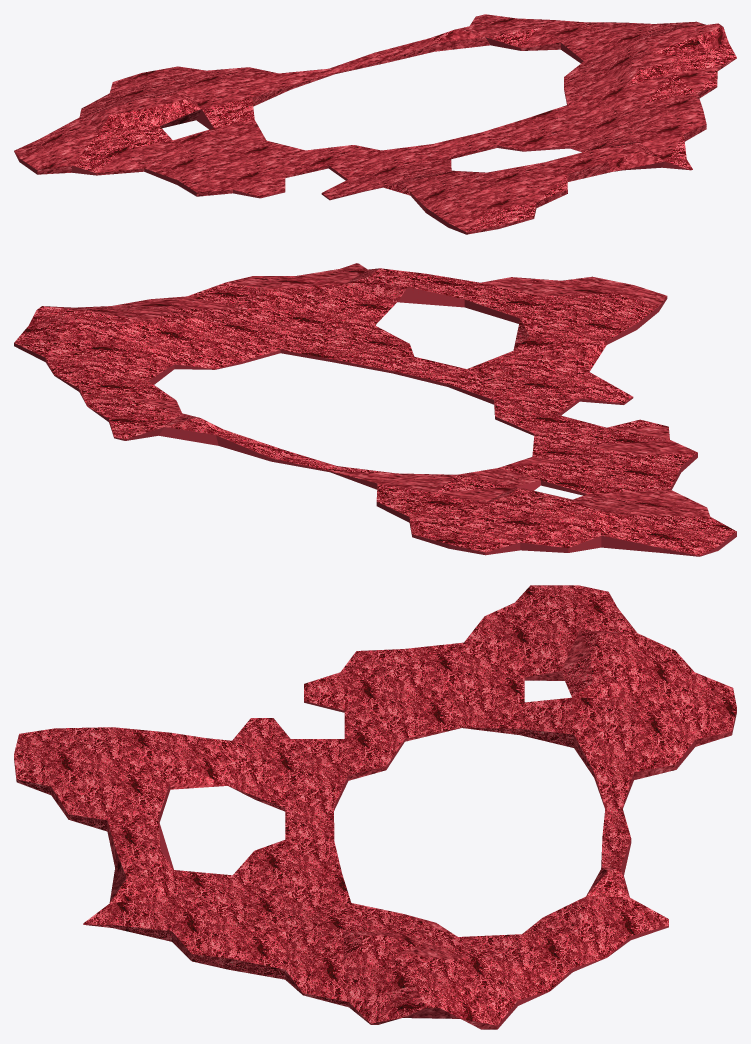
File: red_fallen_leave2.glb
The picture shows the model from 3 angles, top to bottom: view 1: azimuth 30°, elevation 25°; view 2: azimuth 150°, elevation 25°; view 3: azimuth 270°, elevation 25°; orthographic projection. The views are drawn at different scales.
Parts seen in each view (by area): view 1: Icosphere.001; view 2: Icosphere.001; view 3: Icosphere.001.
Boxes of the visible parts, bbox=[...] form: Icosphere.001: bbox=[14, 14, 736, 234]; Icosphere.001: bbox=[14, 263, 736, 556]; Icosphere.001: bbox=[14, 585, 736, 1029].
Bounding box in the file's own units: 4.38 × 0.162 × 3.04.
Materials: 1 (1 with a texture image).
